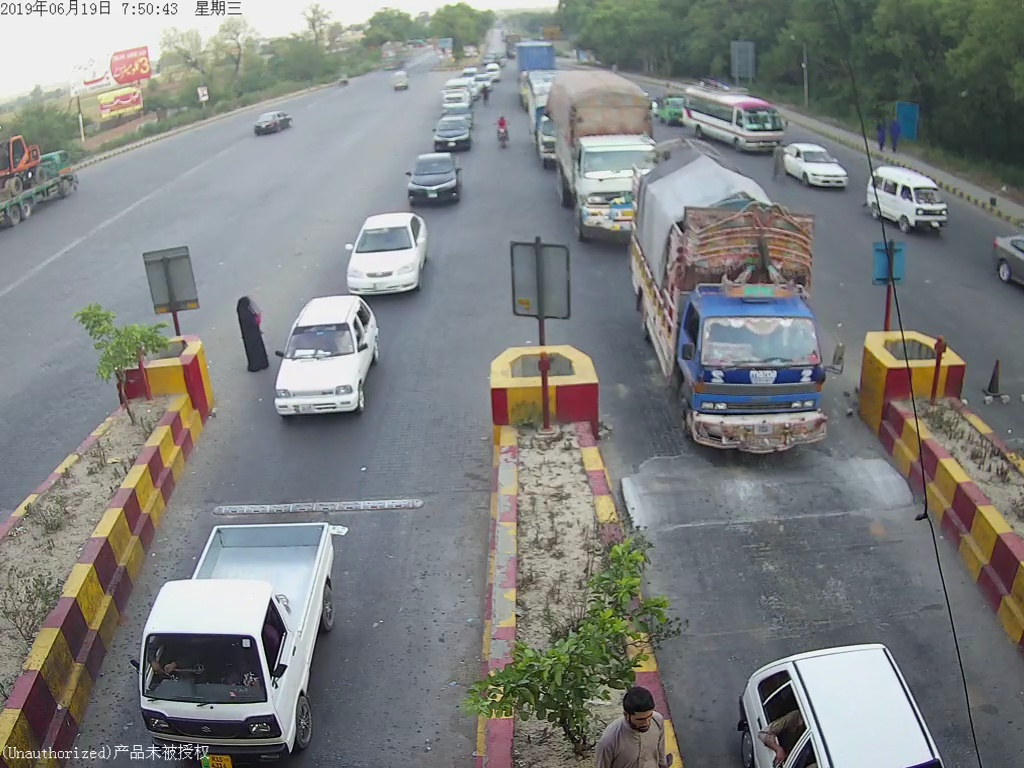Cat-1: (124, 516, 345, 754), (271, 291, 376, 418), (338, 212, 432, 301), (866, 160, 951, 238), (404, 153, 469, 206), (430, 113, 475, 152)
Cat-2: (633, 147, 838, 460)
Cat-4: (548, 69, 662, 245)
